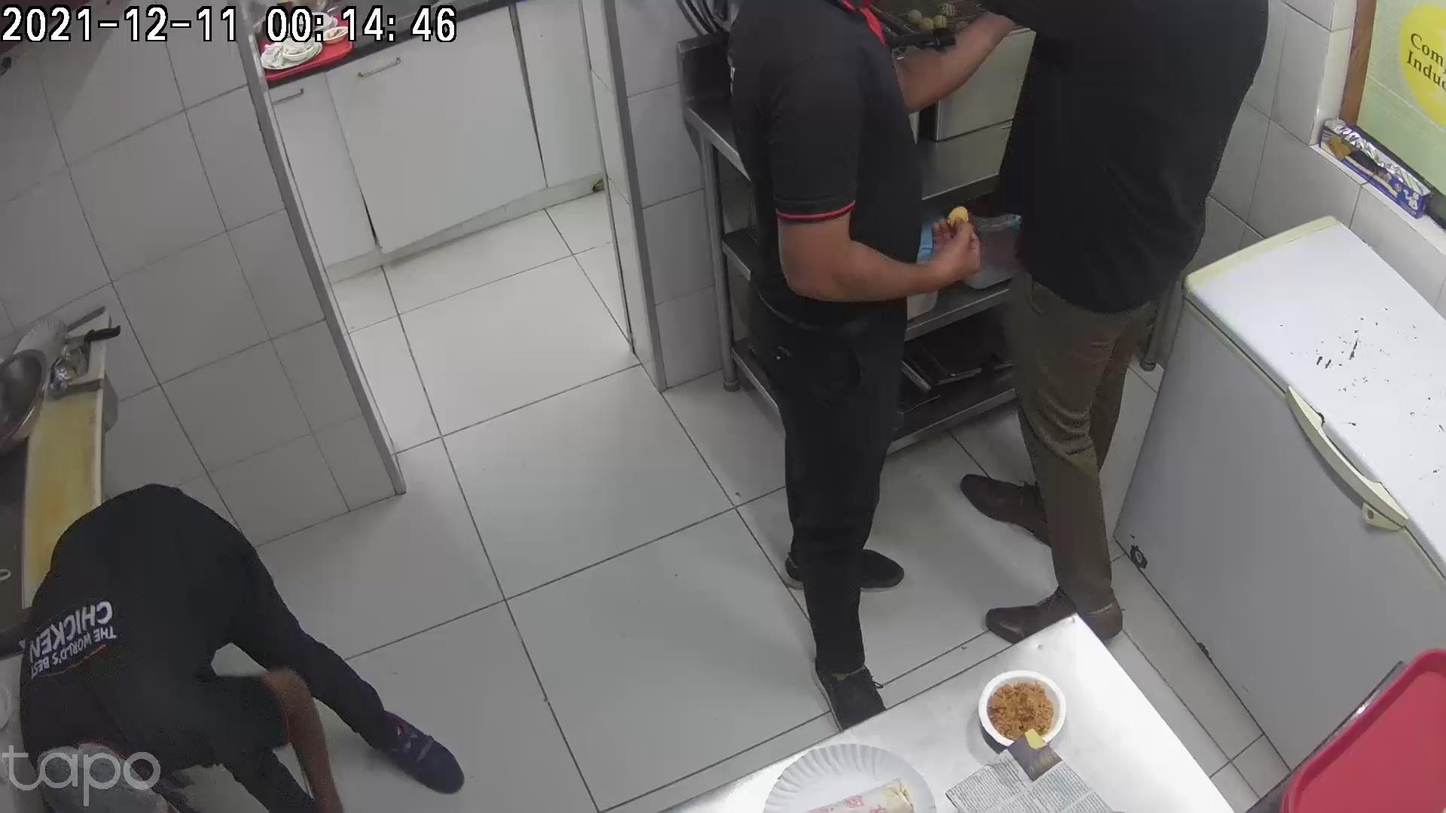no_gloves: (298, 626, 462, 781)
